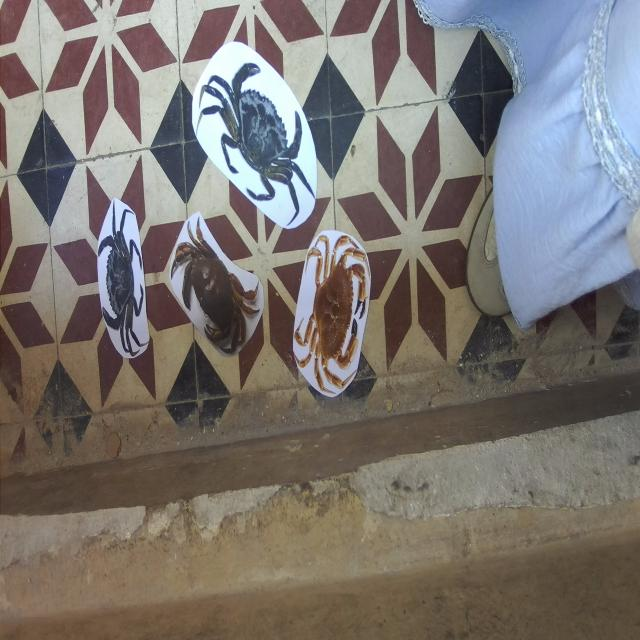European_Green_Crab: (188, 27, 334, 251), (92, 193, 150, 365)
